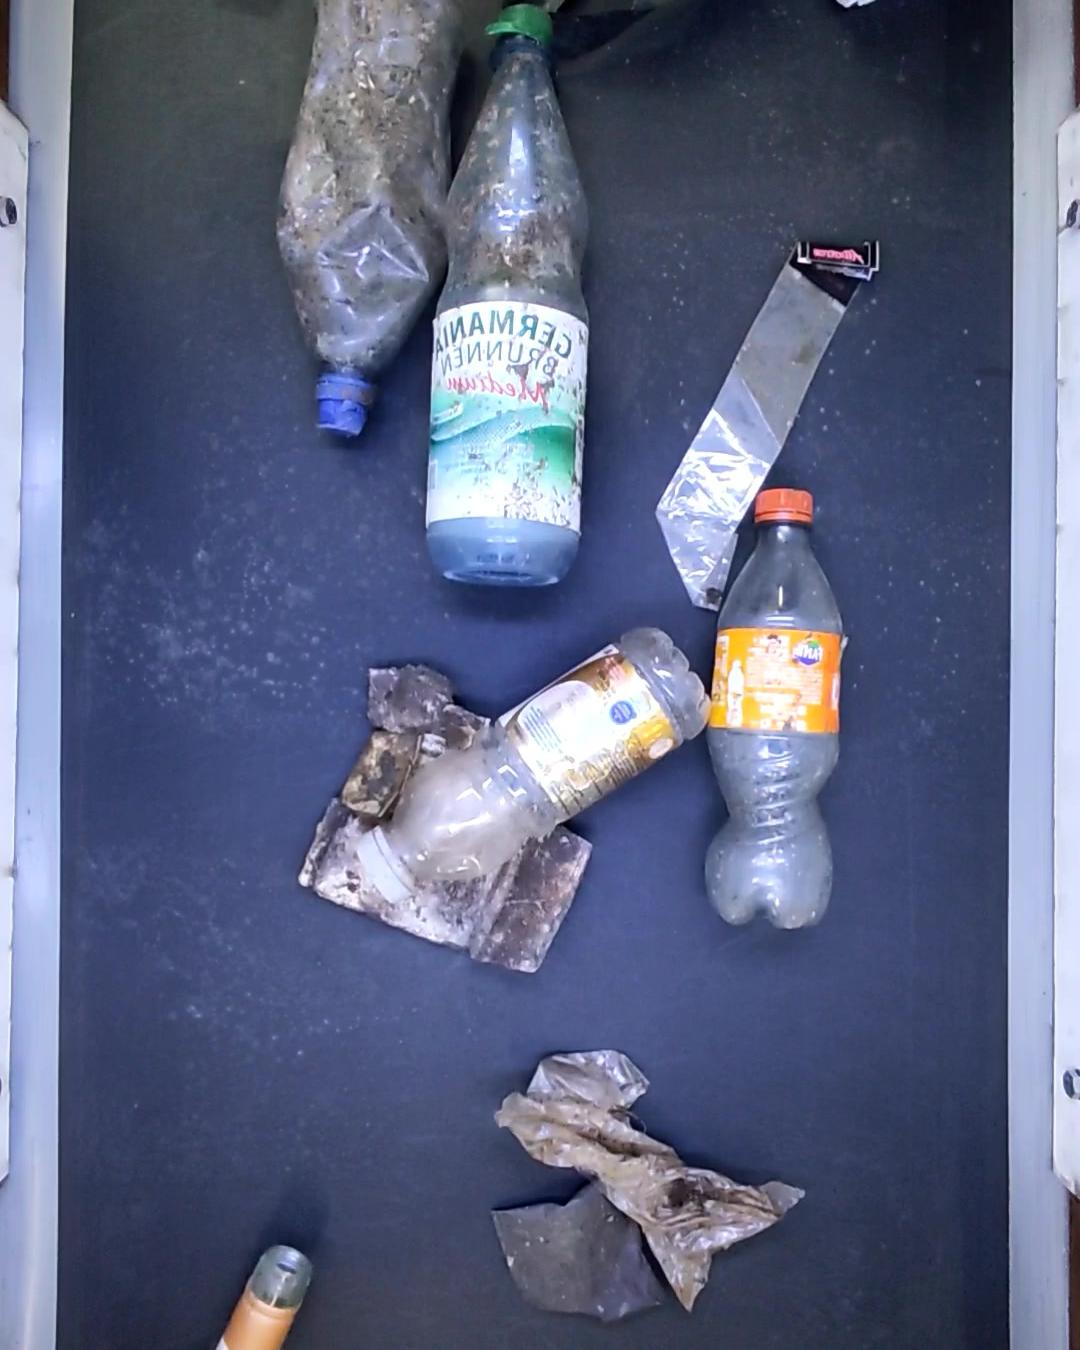Drankflessen - 1-2 liter: (428, 0, 592, 597), (352, 627, 708, 900), (285, 0, 454, 435), (700, 475, 849, 932)
Plastic folies of stukken daarvan 2.5- 50 cm: (499, 1038, 800, 1307)
